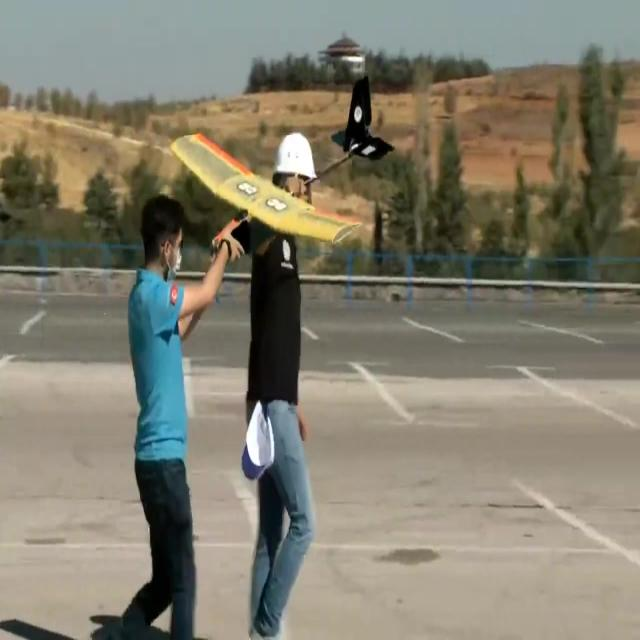iha: (170, 74, 396, 285)
